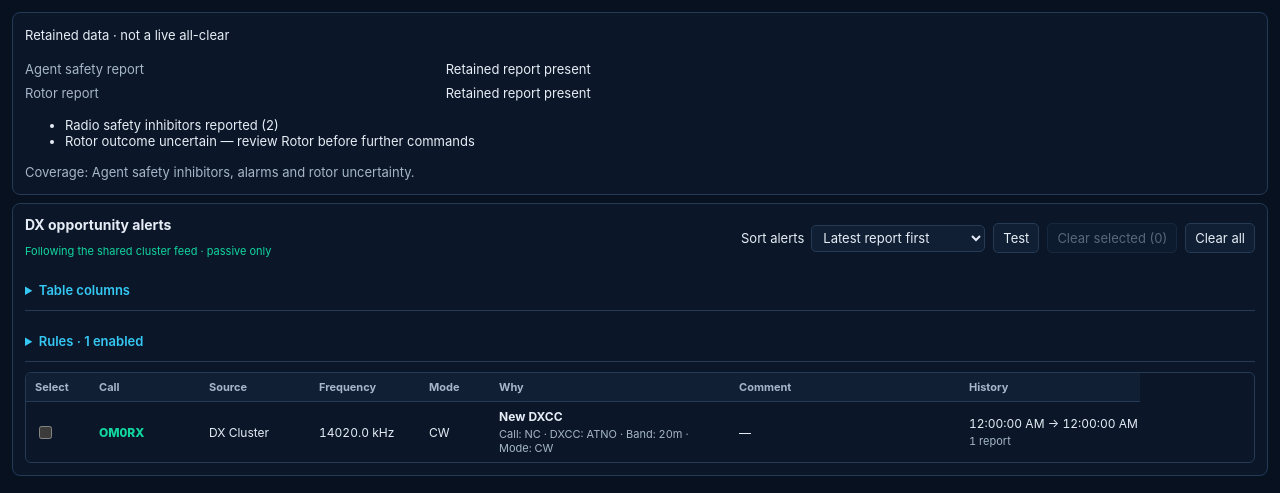
Scenario: does not restore rows or selection from a delayed action after a native wake (owner changed: false)
Click the checkbox named "Select alert OM0RX" at (46, 432), box [39, 426, 52, 439]
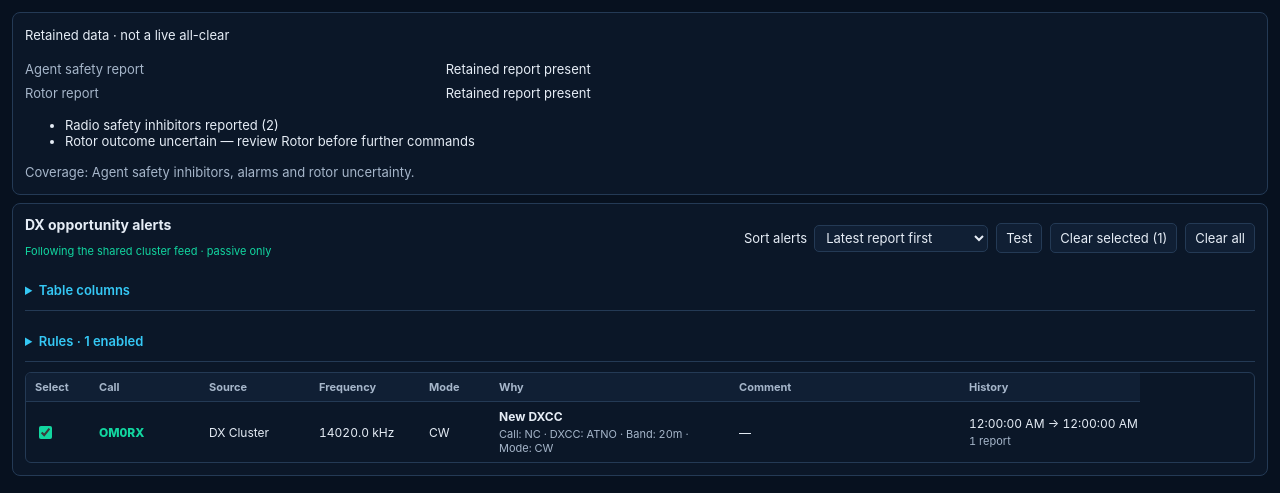
Click the button "Clear selected (1)" at (1114, 238), box [1050, 223, 1177, 253]
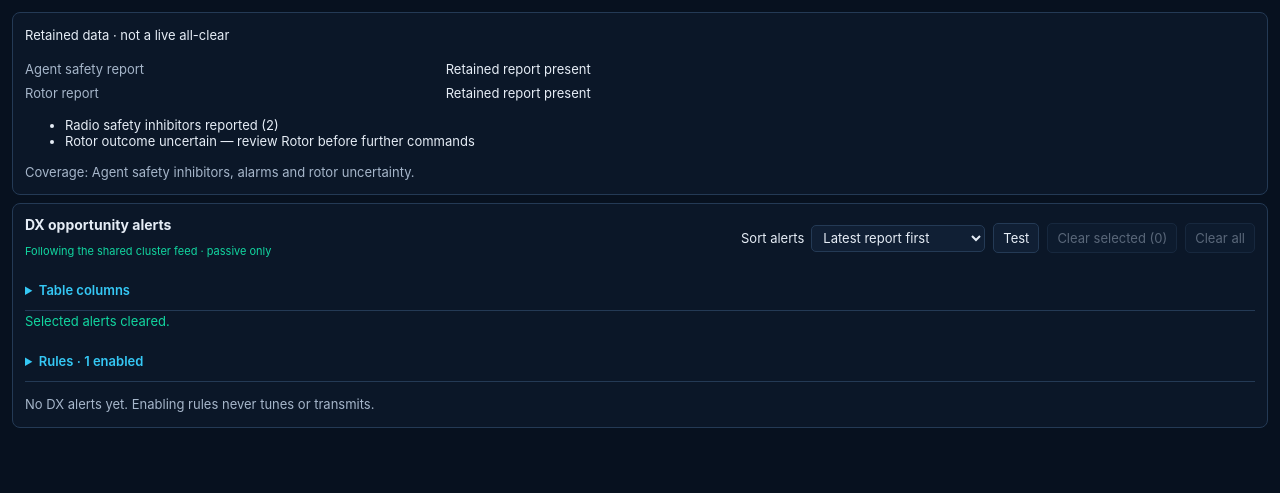
expect the text "No DX alerts yet. Enabling rules never tunes or transmits." is shown: met, box [25, 396, 374, 412]
expect the button "Clear selected (0)" is disabled: met, box [1047, 223, 1177, 253]
